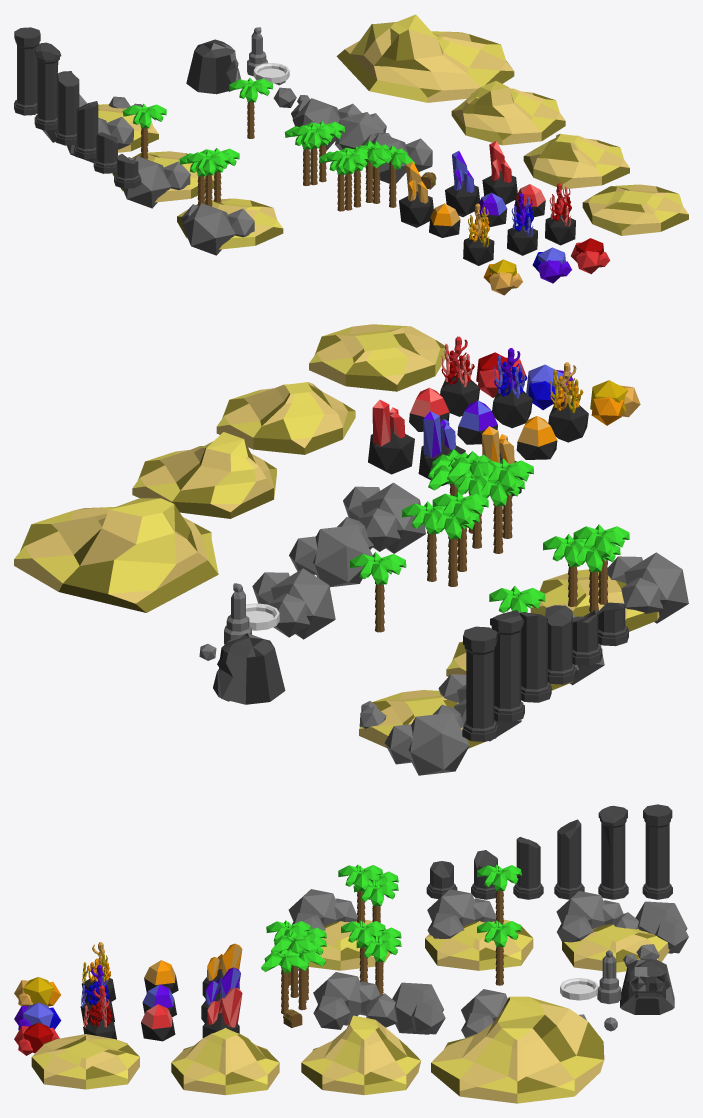
The model's file is Islands_2.fbx.
The picture shows the model from 3 angles, top to bottom: view 1: azimuth 30°, elevation 25°; view 2: azimuth 150°, elevation 25°; view 3: azimuth 270°, elevation 25°; orthographic projection. The views are drawn at different scales.
Visible parts, largest first — view 1: Sand_1.004, Island_1, Sand_1.003, Sand_1.002, Sand_1, Island_2, Bundle of Trees, Rock_4, Cube, Island_4, Cylinder.007, Cylinder.002 (+21 smaller); view 2: Sand_1.004, Island_1, Sand_1.003, Island_4, Rock_4, Sand_1.002, Sand_1, Bundle of Trees, Cube, Rock_3, 3tree, Cylinder.007 (+21 smaller); view 3: Sand_1.004, Island_4, Island_2, Sand_1.003, Rock_4, Island_1, Sand_1.002, Sand_1, Bundle of Trees, Cube, Cylinder.007, Cylinder.002 (+21 smaller).
Boxes of the visible parts, left/top/right/bottom form: Sand_1.004: left=336, top=14, right=514, bottom=102; Island_1: left=177, top=148, right=283, bottom=255; Sand_1.003: left=451, top=81, right=565, bottom=145; Sand_1.002: left=523, top=133, right=629, bottom=189; Sand_1: left=582, top=184, right=688, bottom=235; Island_2: left=112, top=103, right=214, bottom=208; Bundle of Trees: left=319, top=140, right=415, bottom=211; Rock_4: left=335, top=112, right=432, bottom=183; Cube: left=186, top=39, right=240, bottom=94; Island_4: left=42, top=94, right=158, bottom=162; Cylinder.007: left=14, top=27, right=40, bottom=115; Cylinder.002: left=34, top=42, right=61, bottom=130; Sand_1.004: left=14, top=498, right=218, bottom=612; Island_1: left=530, top=524, right=688, bottom=631; Sand_1.003: left=132, top=432, right=276, bottom=518; Island_4: left=359, top=674, right=521, bottom=775; Rock_4: left=289, top=482, right=425, bottom=587; Sand_1.002: left=216, top=382, right=355, bottom=454; Sand_1: left=309, top=324, right=445, bottom=391; Bundle of Trees: left=428, top=449, right=533, bottom=553; Cube: left=213, top=633, right=285, bottom=704; Rock_3: left=252, top=568, right=335, bottom=639; 3tree: left=402, top=491, right=488, bottom=586; Cylinder.007: left=462, top=626, right=497, bottom=741; Sand_1.004: left=431, top=996, right=604, bottom=1103; Island_4: left=556, top=891, right=688, bottom=972; Island_2: left=425, top=864, right=533, bottom=970; Sand_1.003: left=301, top=1015, right=420, bottom=1095; Rock_4: left=313, top=972, right=445, bottom=1034; Island_1: left=288, top=864, right=398, bottom=970; Sand_1.002: left=171, top=1028, right=279, bottom=1095; Sand_1: left=31, top=1034, right=139, bottom=1089; Bundle of Trees: left=261, top=920, right=326, bottom=1014; Cube: left=620, top=959, right=674, bottom=1014; Cylinder.007: left=642, top=804, right=672, bottom=899; Cylinder.002: left=598, top=805, right=628, bottom=899.
Bounding box in the file's own units: 2706 × 695 × 3488.
